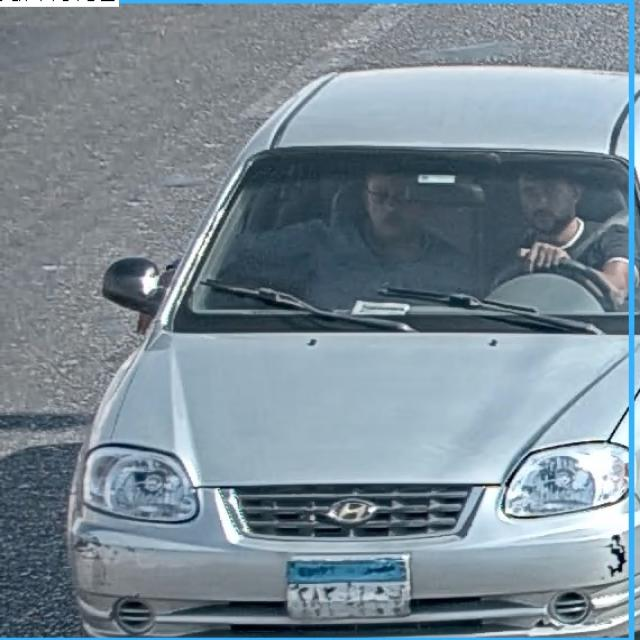windshield: (183, 152, 634, 328)
